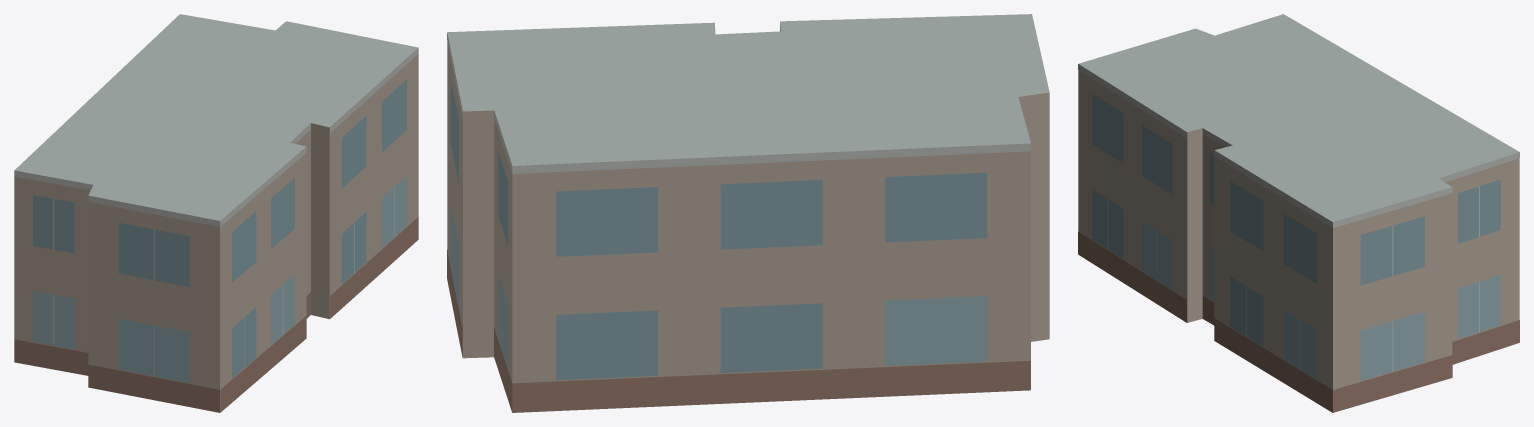
The model's file is survey-upis-32995757.glb.
3 views of the same model, side by side, from view 1: azimuth 30°, elevation 25°; view 2: azimuth 150°, elevation 25°; view 3: azimuth 270°, elevation 25° (orthographic). The views are drawn at different scales.
Visible parts, largest first — view 1: survey-upis-32995757.tmp; view 2: survey-upis-32995757.tmp; view 3: survey-upis-32995757.tmp.
Part boxes in pixels (x1=…): survey-upis-32995757.tmp: x1=14, y1=14, x2=418, y2=412; survey-upis-32995757.tmp: x1=447, y1=14, x2=1049, y2=412; survey-upis-32995757.tmp: x1=1078, y1=14, x2=1519, y2=412.
Bounding box in the file's own units: 17.79 × 7.6 × 15.95.
